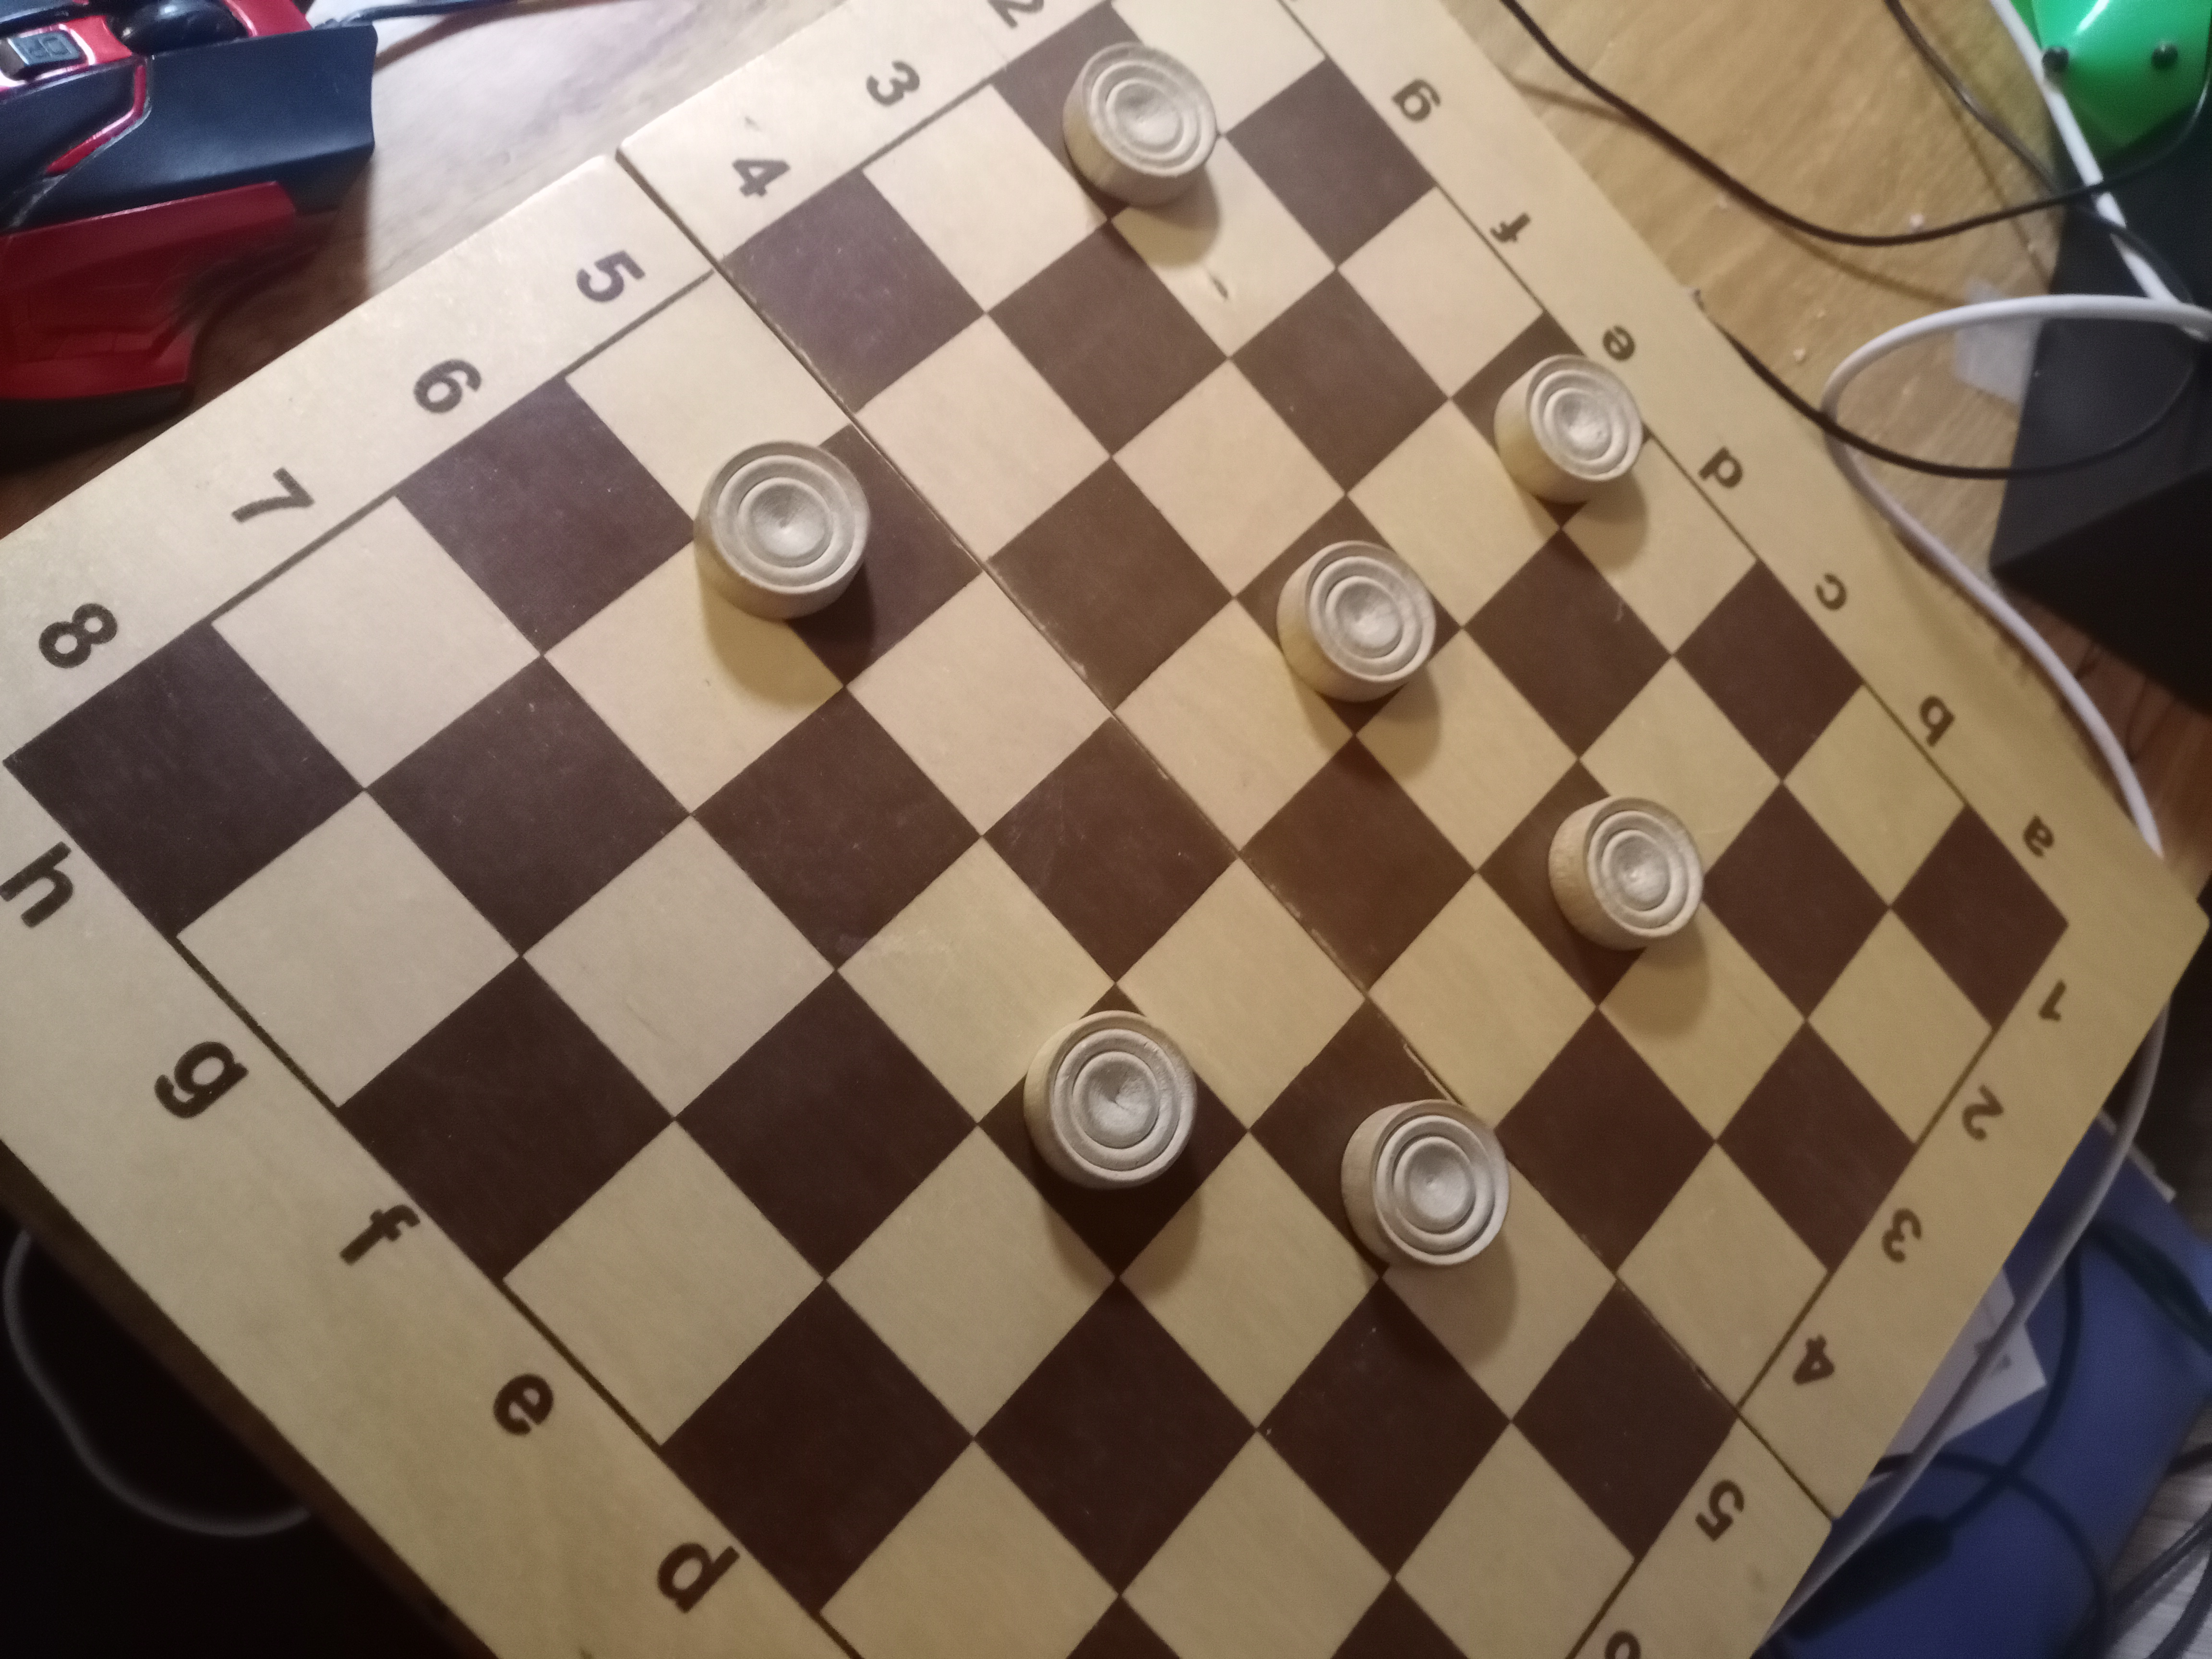White_Draught: (981, 983, 1249, 1276), (693, 422, 986, 687), (1249, 1000, 1510, 1279), (1477, 763, 1705, 1009), (1235, 495, 1463, 735), (989, 2, 1223, 218), (1453, 314, 1653, 528)
